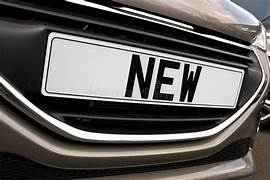number_plate: (48, 31, 238, 107)
